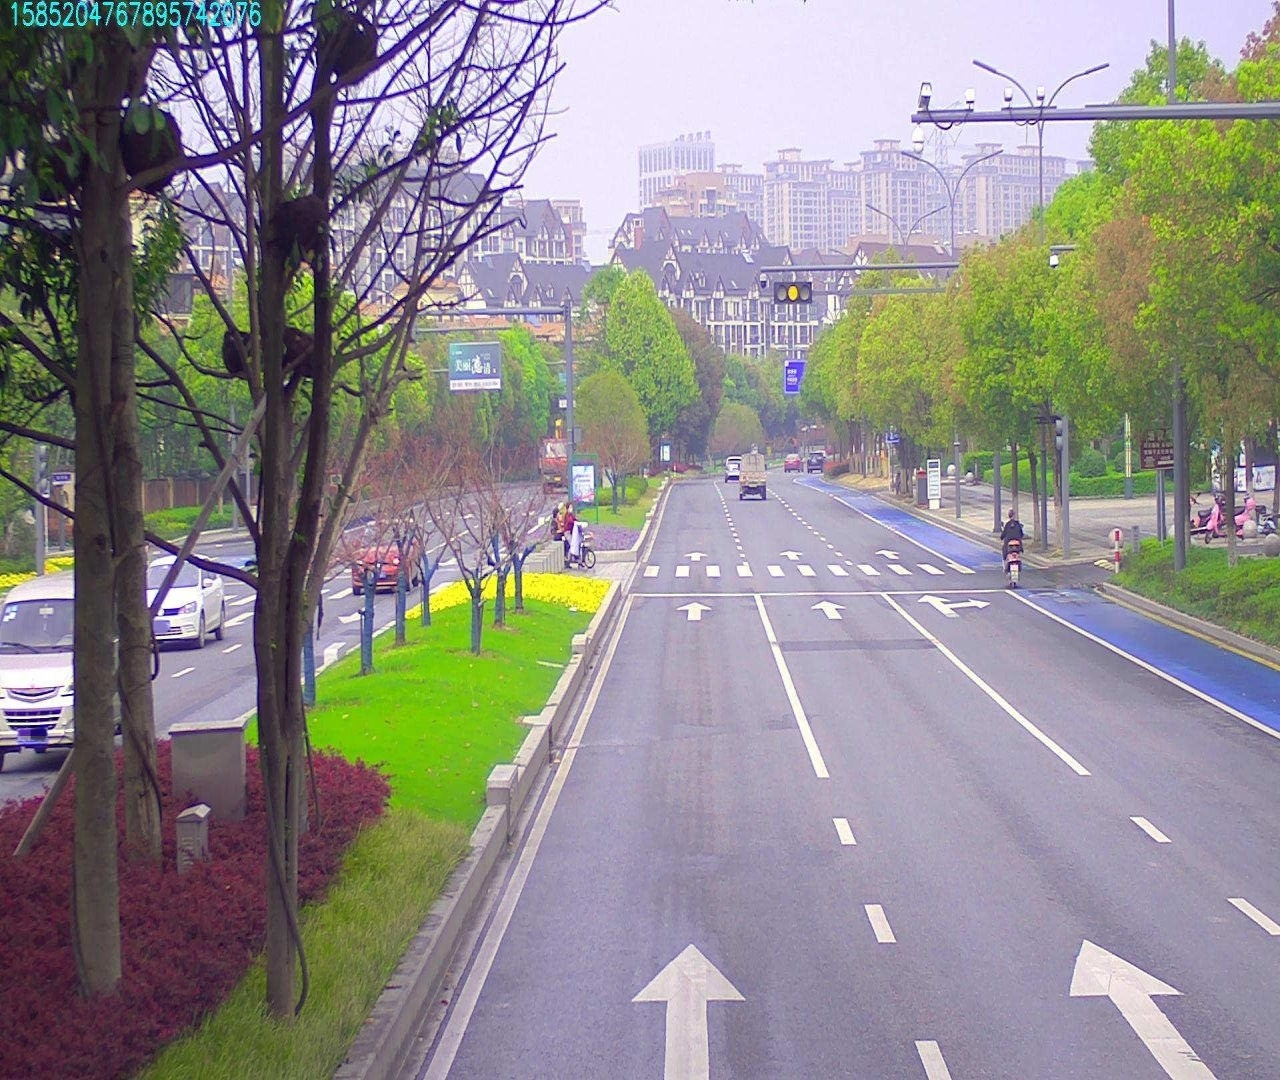yellow: (775, 283, 810, 307)
